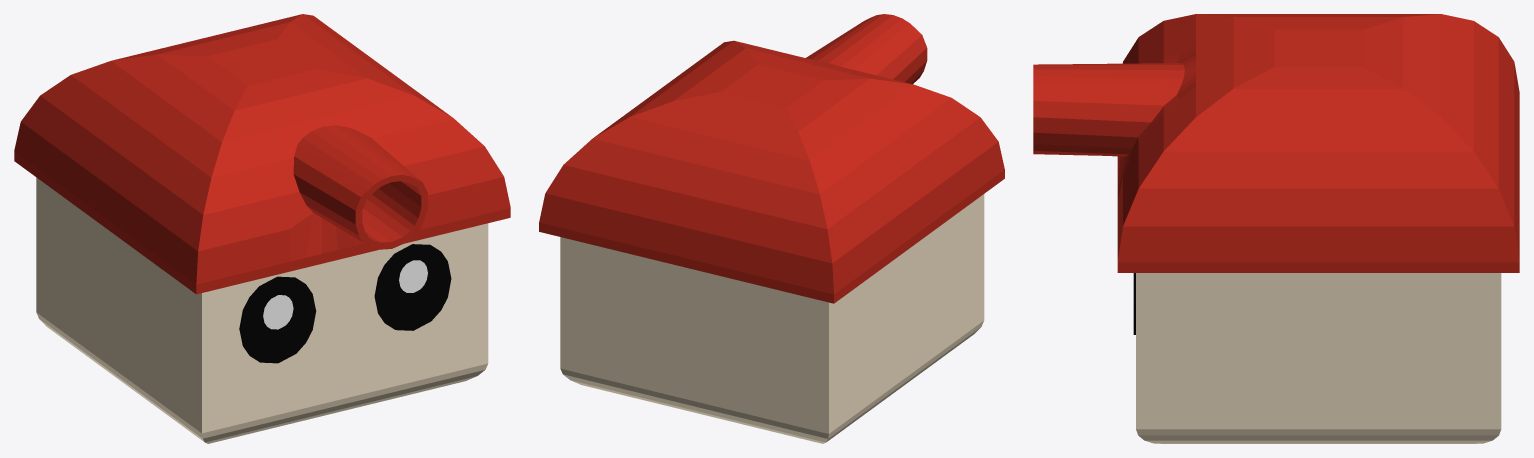
File: MushroomCanon.fbx
3 renders of one model, left to right at view 1: azimuth 30°, elevation 25°; view 2: azimuth 150°, elevation 25°; view 3: azimuth 270°, elevation 25°, orthographic. The views are drawn at different scales.
Visible parts, largest first — view 1: Hat, Body; view 2: Hat, Body; view 3: Hat, Body.
Boxes of the visible parts, x1,y1,x2,y2 form: Hat: (14, 14, 510, 294); Body: (36, 177, 488, 443); Hat: (539, 14, 1004, 303); Body: (560, 194, 984, 443); Hat: (1033, 14, 1519, 272); Body: (1133, 273, 1501, 443).
Bounding box in the file's own units: 219 × 200 × 266.
